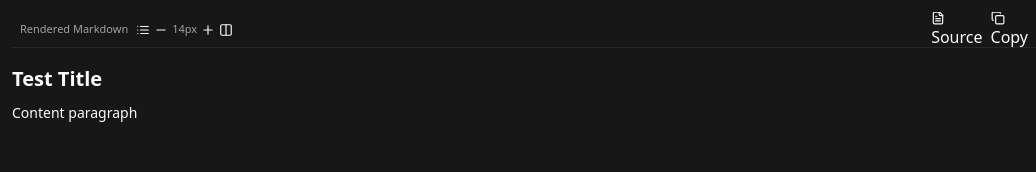
FilePreviewText reading controls › font inc changes style fontSize to 15px
Click the button with test id "file-preview-md-font-inc" at (208, 30), box [201, 22, 215, 36]
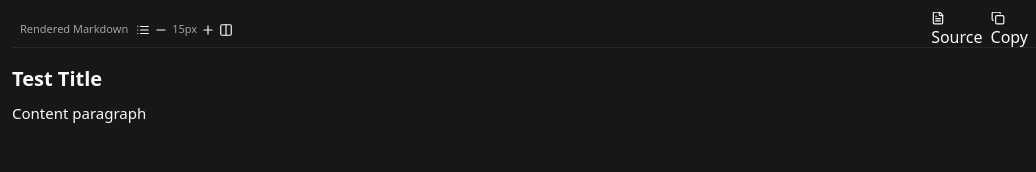
Check: the text "15px" is shown, box [172, 21, 197, 38]
Click the button with test id "file-preview-md-font-dec" at (161, 30), box [154, 22, 168, 36]
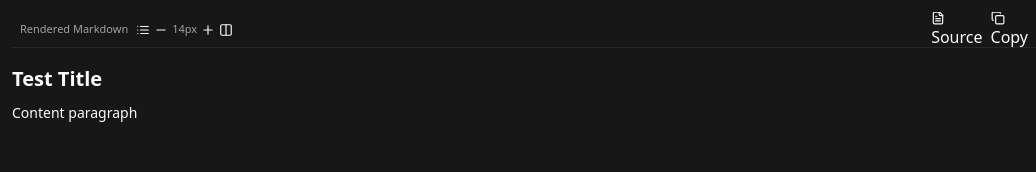
Check: the text "14px" is shown, box [172, 21, 197, 38]
